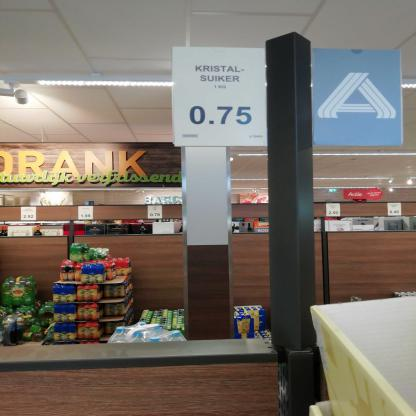prtg: (173, 46, 269, 148)
